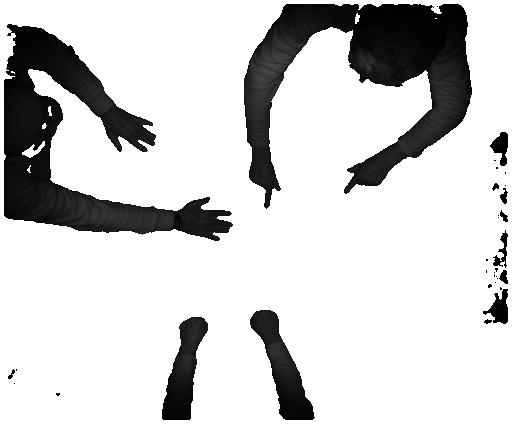fist: (248, 304, 287, 341), (176, 312, 207, 350)
hand: (179, 198, 239, 247), (344, 152, 397, 199), (105, 108, 159, 151), (248, 153, 286, 213)
